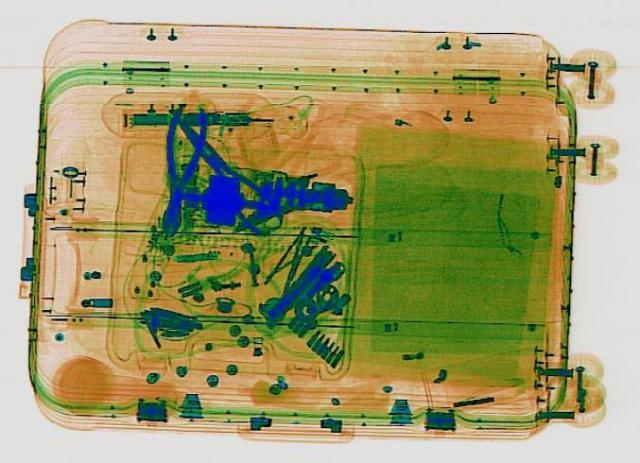Pliers: (154, 107, 294, 236), (150, 105, 208, 238)
